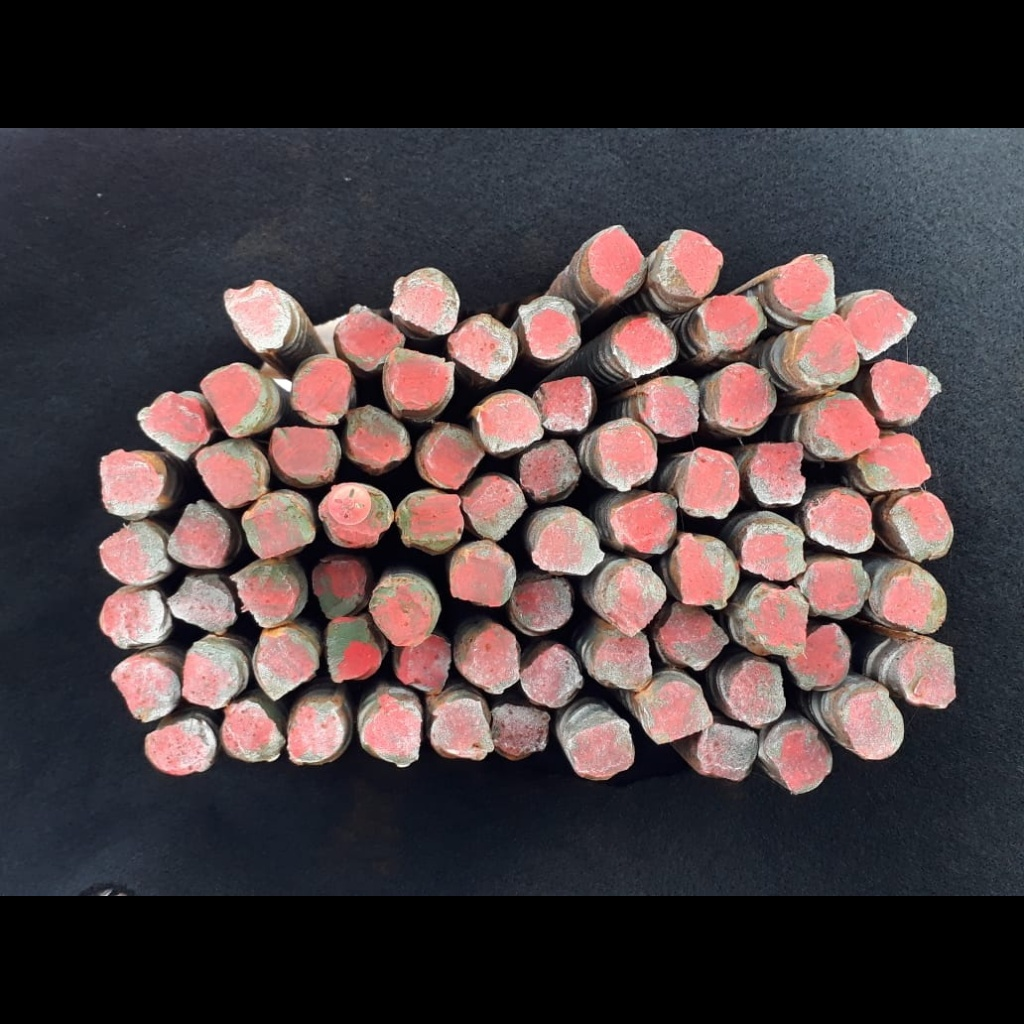dipstick: (653, 223, 724, 304), (135, 389, 210, 462), (222, 278, 292, 354), (202, 362, 272, 437), (195, 438, 271, 507), (875, 564, 948, 635), (801, 391, 877, 459), (771, 247, 837, 323), (584, 219, 645, 301), (677, 533, 741, 611), (636, 681, 714, 745), (599, 563, 669, 634), (98, 448, 169, 518), (316, 482, 390, 549), (392, 265, 459, 338), (867, 358, 942, 423), (460, 471, 528, 542), (786, 622, 853, 694), (743, 584, 809, 657), (518, 291, 582, 366), (769, 721, 832, 797), (659, 602, 728, 671), (449, 315, 519, 383), (111, 656, 182, 723), (456, 622, 521, 695), (847, 291, 917, 358), (450, 542, 517, 612), (565, 718, 636, 784), (242, 494, 314, 559), (854, 431, 931, 491), (594, 421, 660, 491), (805, 491, 876, 556), (533, 515, 606, 578), (332, 304, 402, 369), (100, 523, 170, 588), (99, 588, 172, 650), (361, 697, 422, 770), (844, 689, 904, 763), (890, 493, 955, 561), (396, 488, 465, 552), (370, 577, 433, 647), (614, 491, 681, 556), (709, 364, 778, 427), (346, 403, 409, 472), (256, 631, 317, 702), (611, 314, 676, 380), (221, 702, 287, 767), (418, 426, 487, 488), (474, 394, 545, 454), (685, 445, 741, 521), (800, 313, 858, 386), (588, 625, 653, 690), (895, 642, 958, 709), (143, 719, 217, 776), (170, 574, 238, 636), (802, 559, 872, 619), (236, 561, 299, 627), (724, 659, 786, 726), (385, 350, 454, 410), (269, 426, 340, 484), (696, 294, 769, 350), (522, 642, 583, 709), (292, 357, 350, 426), (170, 502, 230, 568), (323, 616, 381, 684), (741, 521, 806, 581), (639, 376, 702, 437), (428, 702, 494, 760), (749, 442, 806, 509), (490, 702, 551, 763), (514, 572, 574, 634), (181, 648, 243, 707), (287, 701, 345, 764), (699, 723, 760, 782), (519, 441, 581, 499), (392, 636, 452, 695), (311, 557, 364, 617), (536, 375, 591, 429)
